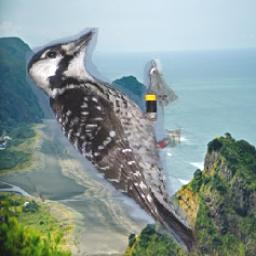Woodpecker: (26, 29, 199, 253)
